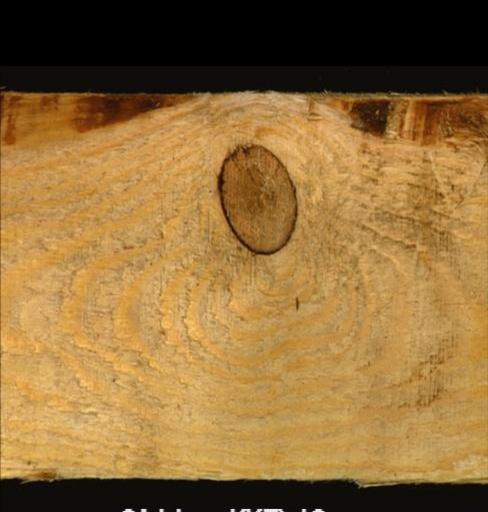dry_knot: (213, 140, 299, 255)
wave: (0, 88, 202, 146), (325, 90, 485, 152)
